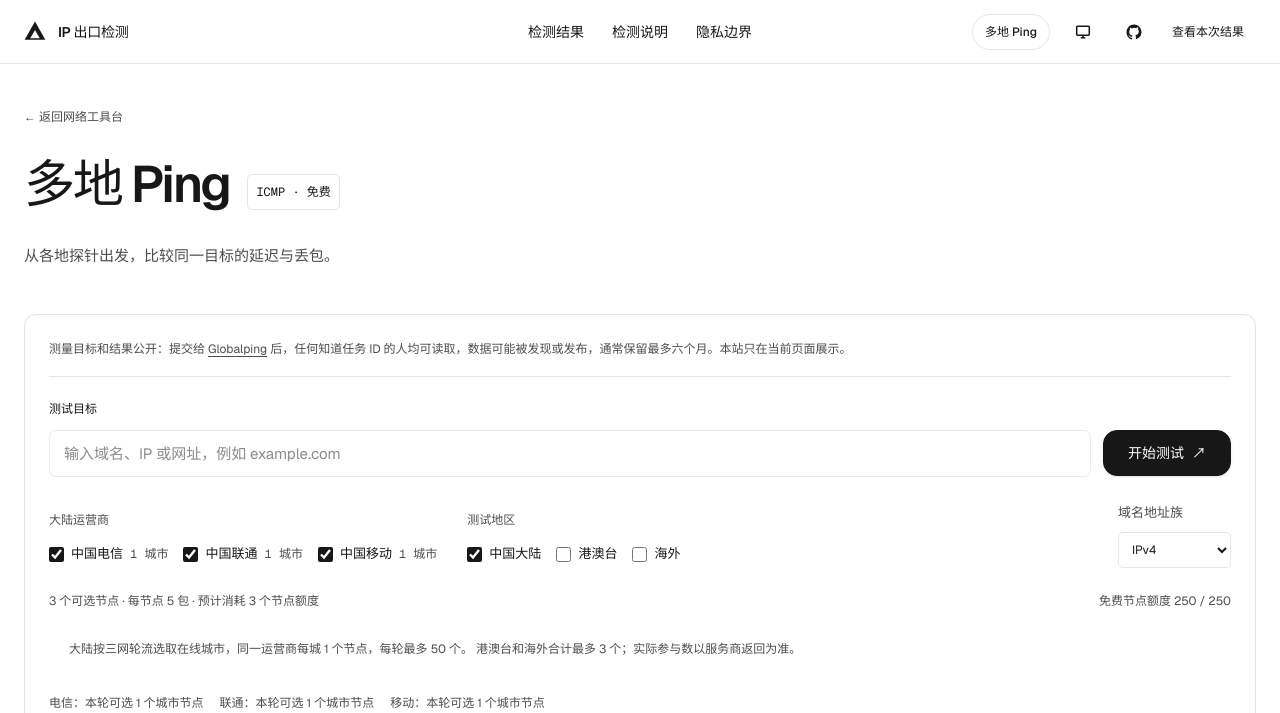
Test: 多地 Ping 独立页面 › 按响应包加权汇总，探针失败不算目标丢包，地图只给有证据的省份着色
The width and height of the screenshot is (1280, 713).
Expected: the text "3 个可选节点 · 每节点 5 包 · 预计消耗 3 个节点额度" is shown, [49, 590, 319, 614]
In the field labelled "测试目标": (570, 454) [49, 430, 1091, 478], type "example.com"
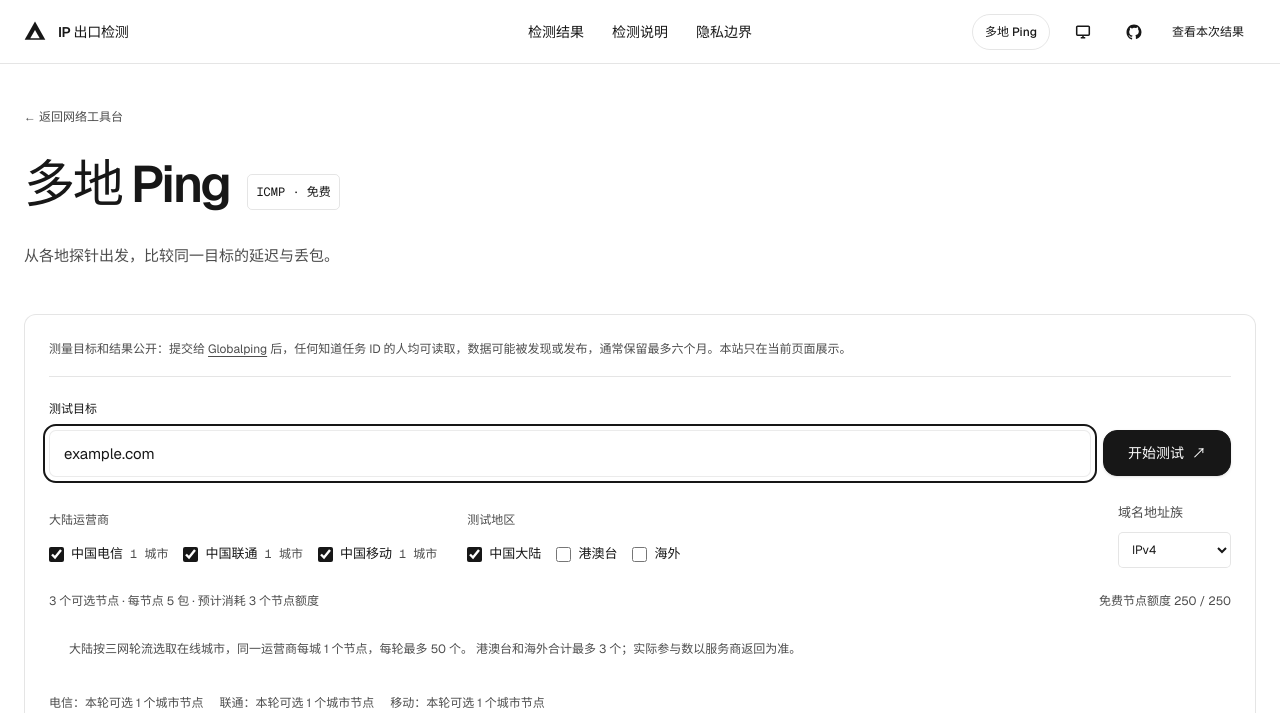
Click the button "开始测试 ↗": (1167, 454) [1103, 430, 1231, 476]
(page scrolled)
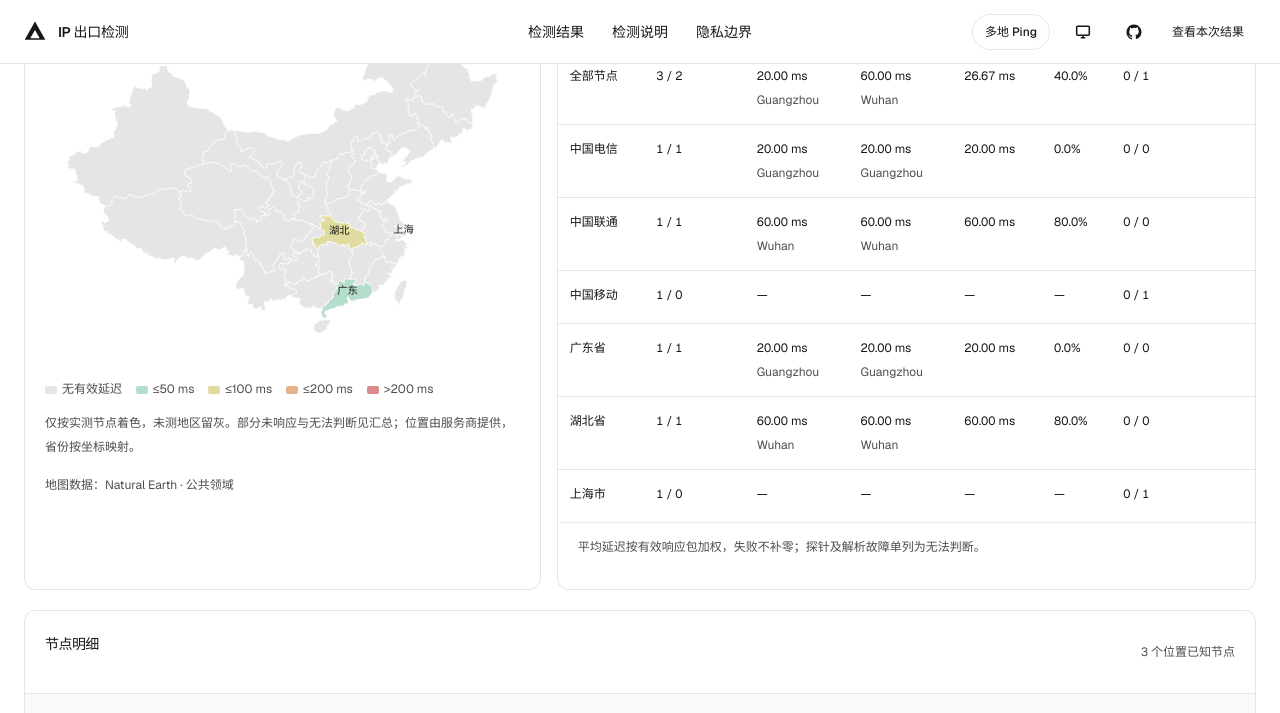
Now the text "26.67 ms" is shown, box [952, 52, 1042, 125]
Now the text "40.0%" is shown, box [1042, 52, 1111, 125]
Now the text "0 / 1" in the row of "全部节点" is shown, box [1111, 52, 1255, 125]
